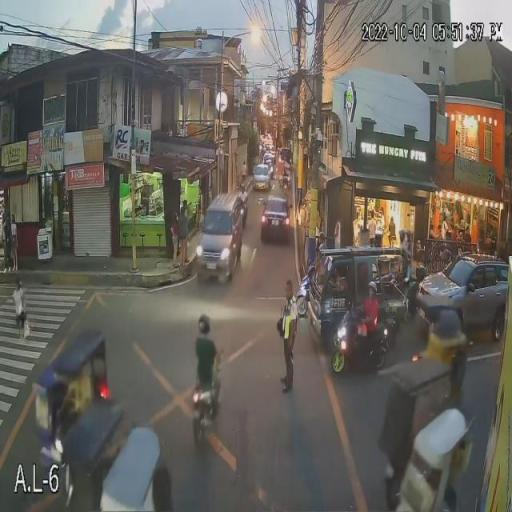helmet: (197, 315, 211, 335), (369, 282, 377, 300), (319, 244, 328, 252), (240, 185, 246, 192)
motorcycle: (333, 312, 395, 370), (190, 376, 220, 441), (295, 276, 308, 316), (239, 204, 248, 224)
rider: (192, 337, 222, 395), (358, 299, 378, 362), (239, 192, 249, 215)
